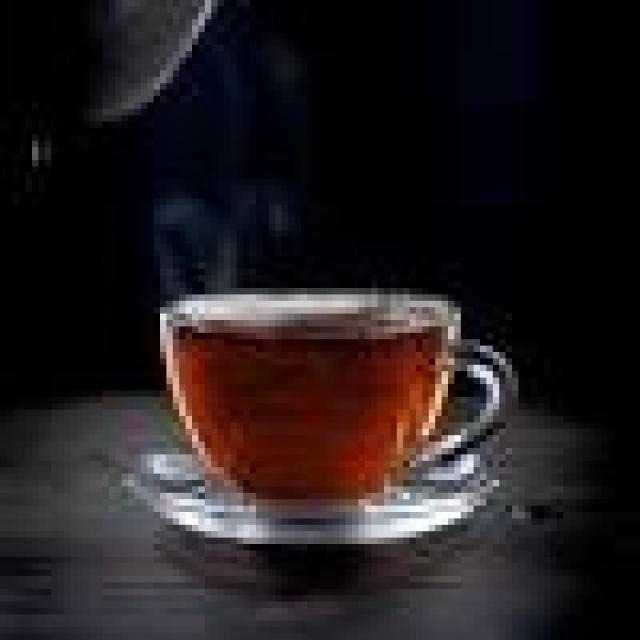taza: (147, 276, 524, 530)
